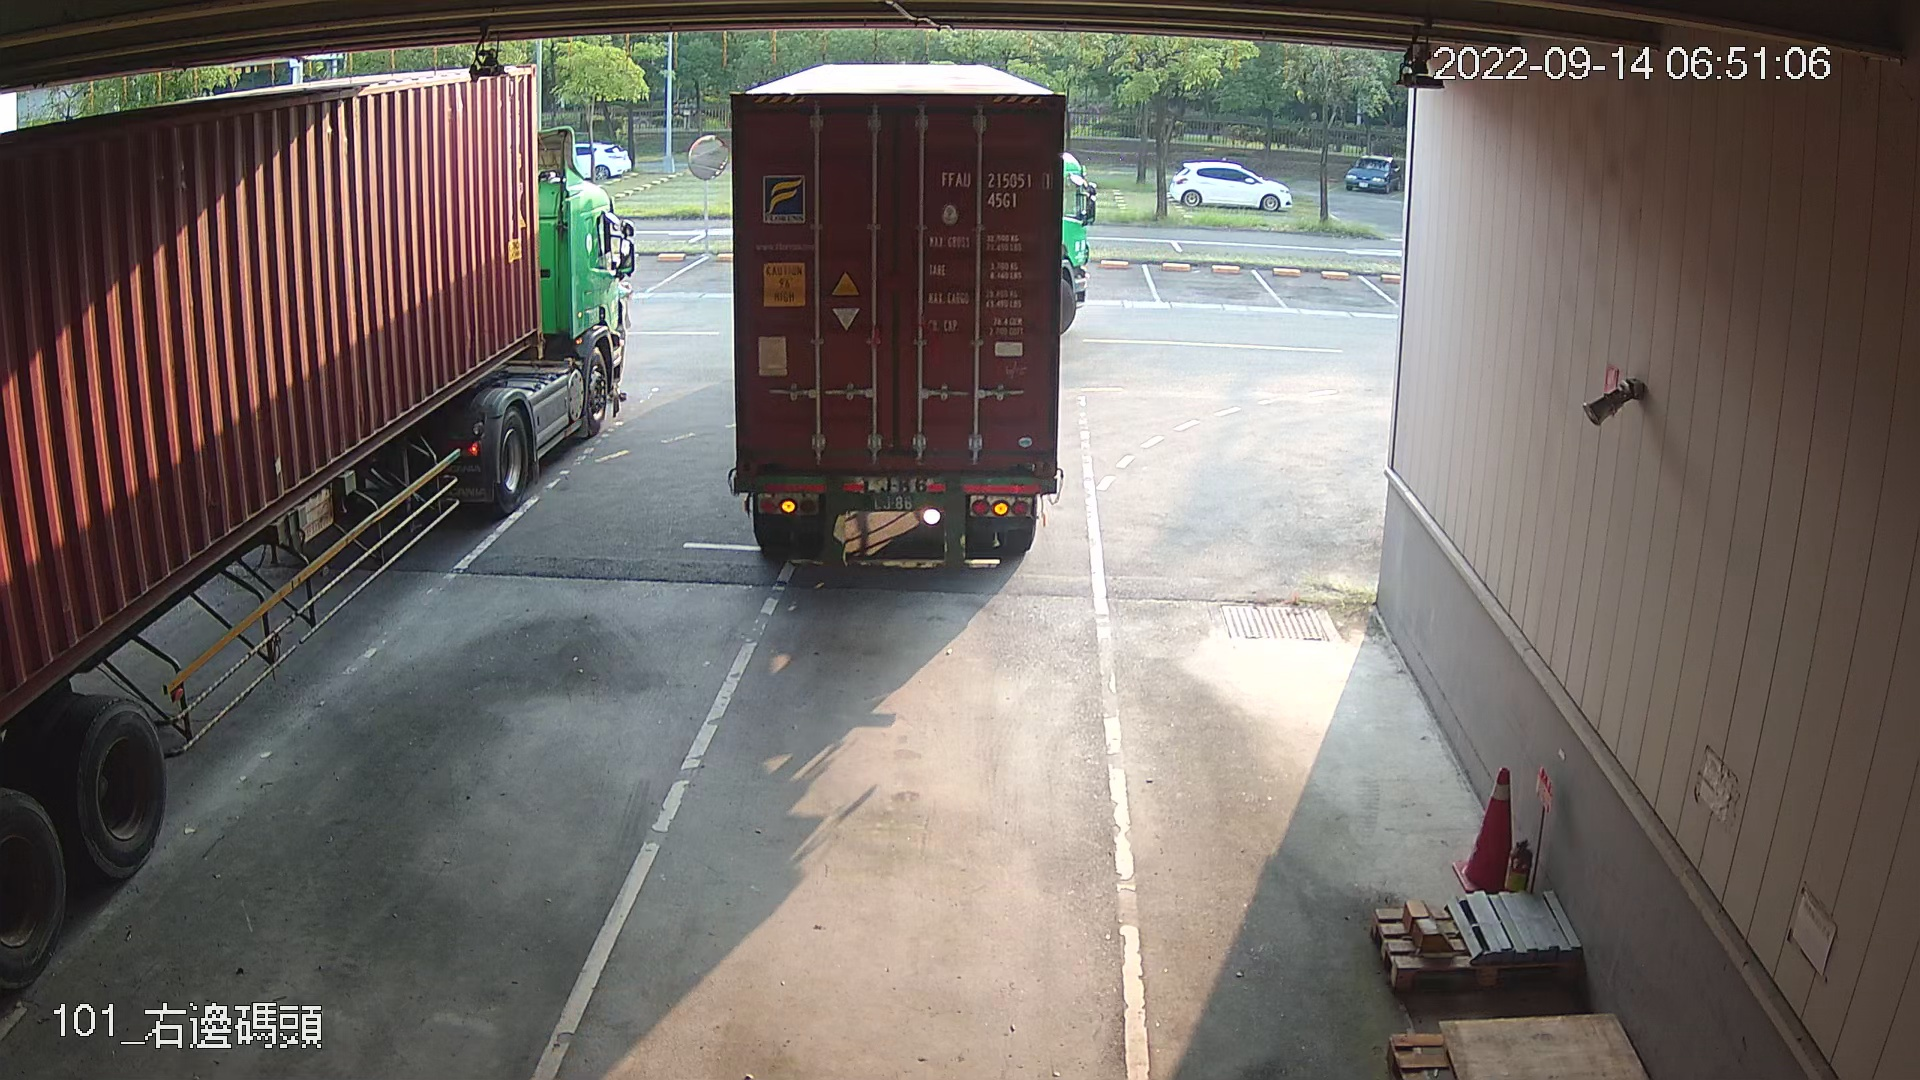container: (932, 164, 1054, 214)
